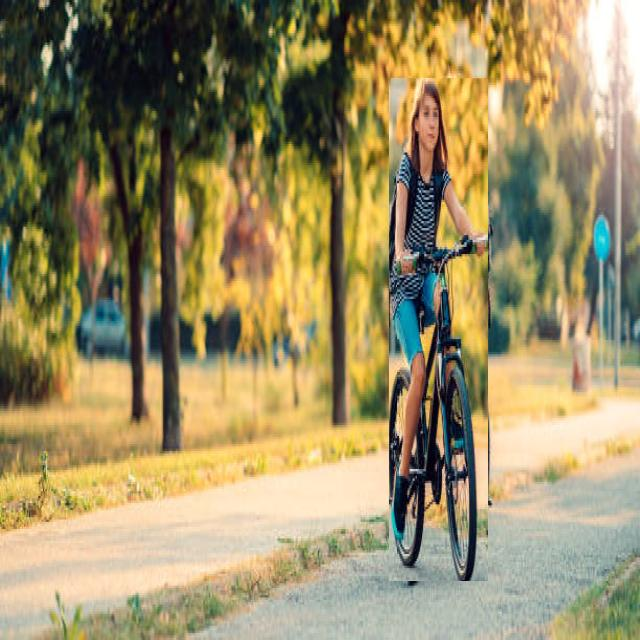bicycle: (390, 79, 488, 581)
